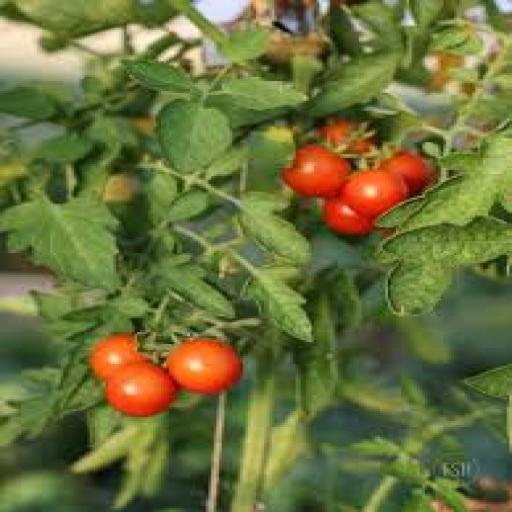tomato: (167, 339, 242, 393), (106, 362, 179, 417), (283, 145, 351, 197), (341, 171, 409, 219), (90, 335, 145, 379), (381, 151, 432, 195), (322, 198, 374, 235), (320, 121, 374, 154)
